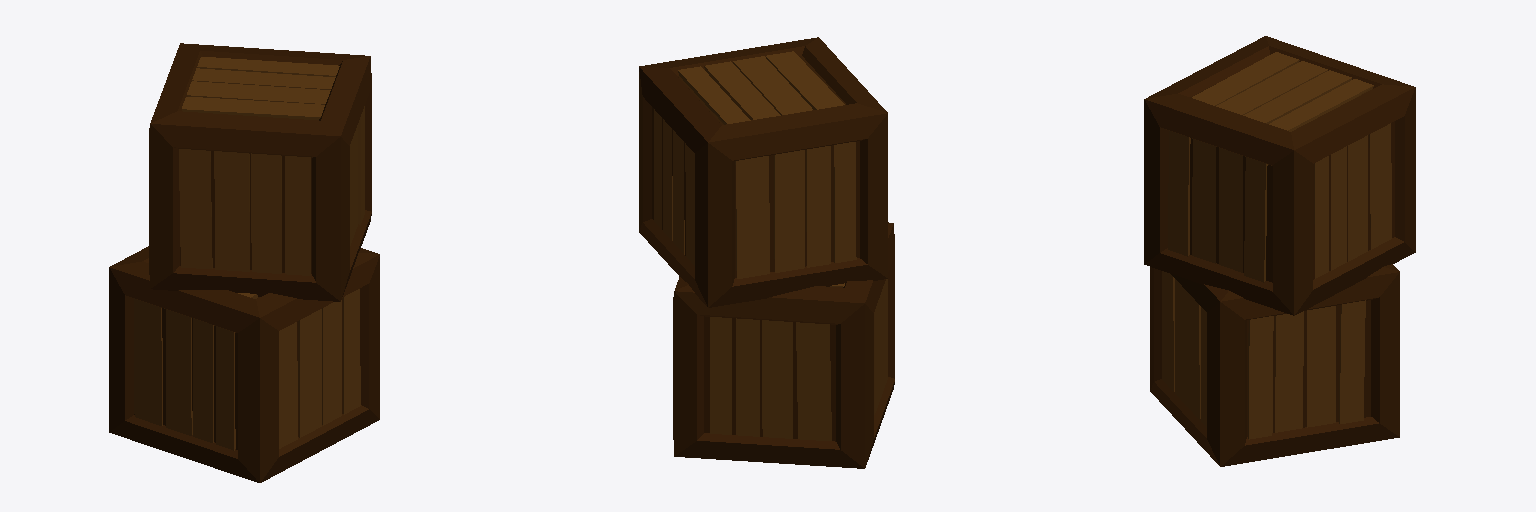
The model's file is Crate_Big_Stack2_Cube.obj.
3 renders of one model, left to right at view 1: azimuth 30°, elevation 25°; view 2: azimuth 150°, elevation 25°; view 3: azimuth 270°, elevation 25°, orthographic.
Visible parts, largest first — view 1: Crate_Big_Stack2_Cube.198; view 2: Crate_Big_Stack2_Cube.198; view 3: Crate_Big_Stack2_Cube.198.
Boxes of the visible parts, x1,y1,x2,y2 form: Crate_Big_Stack2_Cube.198: [109, 43, 379, 482]; Crate_Big_Stack2_Cube.198: [639, 37, 894, 468]; Crate_Big_Stack2_Cube.198: [1144, 36, 1415, 466].
Size of the model in its own units: 0.2474 by 0.3281 by 0.2383.